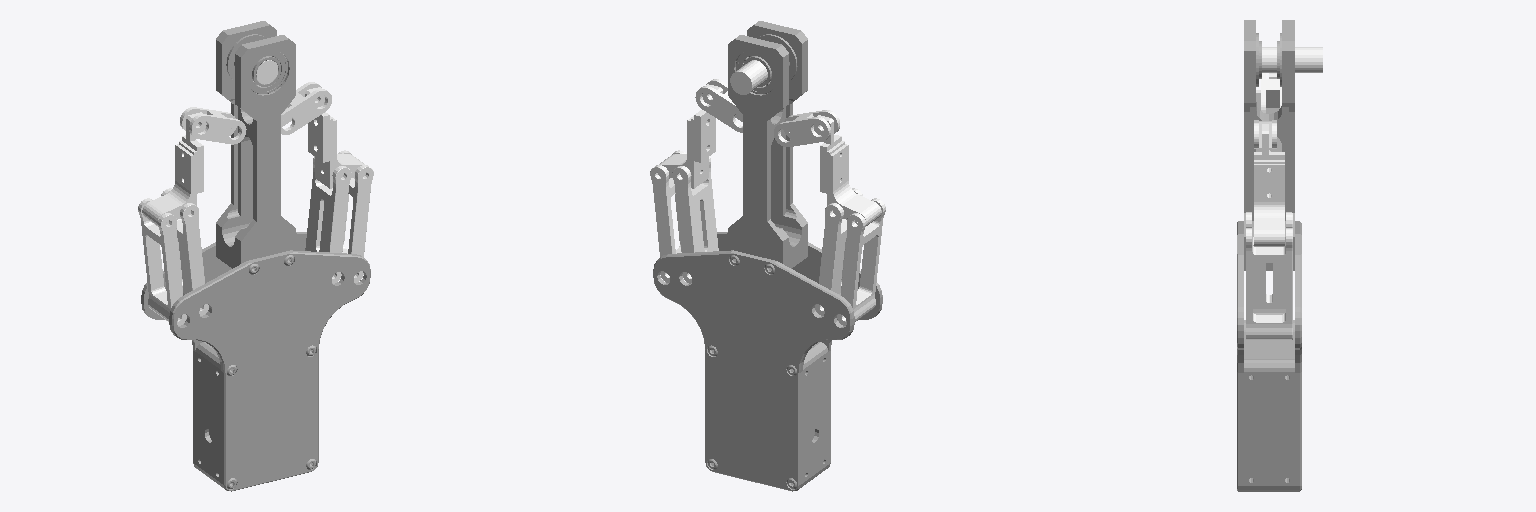
robot.urdf — rm65_scissors_description:
<?xml version="1.0" encoding="utf-8"?>
<!-- This URDF was automatically created by SolidWorks to URDF Exporter! Originally created by [author] ([email redacted]) 
     Commit Version: 1.6.0-4-g7f85cfe  Build Version: 1.6.7995.38578
     For more information, please see http://wiki.ros.org/sw_urdf_exporter -->
<robot
  name="rm65_scissors_description">
  <link
    name="base_link">
    <inertial>
      <origin
        xyz="0 0 0"
        rpy="0 0 0" />
      <mass
        value="0" />
      <inertia
        ixx="0"
        ixy="0"
        ixz="0"
        iyy="0"
        iyz="0"
        izz="0" />
    </inertial>
    <visual>
      <origin
        xyz="0 0 0"
        rpy="0 0 0" />
      <geometry>
        <mesh
          filename="package://rm65_scissors_description/meshes/base_link.STL" />
      </geometry>
      <material
        name="">
        <color
          rgba="0.752941176470588 0.752941176470588 0.752941176470588 1" />
      </material>
    </visual>
    <collision>
      <origin
        xyz="0 0 0"
        rpy="0 0 0" />
      <geometry>
        <mesh
          filename="package://rm65_scissors_description/meshes/base_link.STL" />
      </geometry>
    </collision>
  </link>
  <link
    name="link_l_b_1">
    <inertial>
      <origin
        xyz="0 0 0"
        rpy="0 0 0" />
      <mass
        value="0" />
      <inertia
        ixx="0"
        ixy="0"
        ixz="0"
        iyy="0"
        iyz="0"
        izz="0" />
    </inertial>
    <visual>
      <origin
        xyz="0 0 0"
        rpy="0 0 0" />
      <geometry>
        <mesh
          filename="package://rm65_scissors_description/meshes/link_l_b_1.STL" />
      </geometry>
      <material
        name="">
        <color
          rgba="1 1 1 1" />
      </material>
    </visual>
    <collision>
      <origin
        xyz="0 0 0"
        rpy="0 0 0" />
      <geometry>
        <mesh
          filename="package://rm65_scissors_description/meshes/link_l_b_1.STL" />
      </geometry>
    </collision>
  </link>
  <joint
    name="joint_l_1"
    type="revolute">
    <origin
      xyz="-0.04 0 0.0789999999999999"
      rpy="0 -0.108145629654395 0" />
    <parent
      link="base_link" />
    <child
      link="link_l_b_1" />
    <axis
      xyz="0 1 0" />
  </joint>
  <link
    name="link_l_m">
    <inertial>
      <origin
        xyz="0 0 0"
        rpy="0 0 0" />
      <mass
        value="0" />
      <inertia
        ixx="0"
        ixy="0"
        ixz="0"
        iyy="0"
        iyz="0"
        izz="0" />
    </inertial>
    <visual>
      <origin
        xyz="0 0 0"
        rpy="0 0 0" />
      <geometry>
        <mesh
          filename="package://rm65_scissors_description/meshes/link_l_m.STL" />
      </geometry>
      <material
        name="">
        <color
          rgba="1 1 1 1" />
      </material>
    </visual>
    <collision>
      <origin
        xyz="0 0 0"
        rpy="0 0 0" />
      <geometry>
        <mesh
          filename="package://rm65_scissors_description/meshes/link_l_m.STL" />
      </geometry>
    </collision>
  </link>
  <joint
    name="joint_l_3"
    type="revolute">
    <origin
      xyz="0 0 0.042"
      rpy="0 0.10815 0" />
    <parent
      link="link_l_b_1" />
    <child
      link="link_l_m" />
    <axis
      xyz="0 1 0" />
  </joint>
  <link
    name="link_l_t">
    <inertial>
      <origin
        xyz="0 0 0"
        rpy="0 0 0" />
      <mass
        value="0" />
      <inertia
        ixx="0"
        ixy="0"
        ixz="0"
        iyy="0"
        iyz="0"
        izz="0" />
    </inertial>
    <visual>
      <origin
        xyz="0 0 0"
        rpy="0 0 0" />
      <geometry>
        <mesh
          filename="package://rm65_scissors_description/meshes/link_l_t.STL" />
      </geometry>
      <material
        name="">
        <color
          rgba="1 1 1 1" />
      </material>
    </visual>
    <collision>
      <origin
        xyz="0 0 0"
        rpy="0 0 0" />
      <geometry>
        <mesh
          filename="package://rm65_scissors_description/meshes/link_l_t.STL" />
      </geometry>
    </collision>
  </link>
  <joint
    name="joint_l_4"
    type="revolute">
    <origin
      xyz="0.0185 0.0015 0.035"
      rpy="0 0.36662 0" />
    <parent
      link="link_l_m" />
    <child
      link="link_l_t" />
    <axis
      xyz="0 -1 0" />
  </joint>
  <link
    name="link_l_b_2">
    <inertial>
      <origin
        xyz="0 0 0"
        rpy="0 0 0" />
      <mass
        value="0" />
      <inertia
        ixx="0"
        ixy="0"
        ixz="0"
        iyy="0"
        iyz="0"
        izz="0" />
    </inertial>
    <visual>
      <origin
        xyz="0 0 0"
        rpy="0 0 0" />
      <geometry>
        <mesh
          filename="package://rm65_scissors_description/meshes/link_l_b_2.STL" />
      </geometry>
      <material
        name="">
        <color
          rgba="1 1 1 1" />
      </material>
    </visual>
    <collision>
      <origin
        xyz="0 0 0"
        rpy="0 0 0" />
      <geometry>
        <mesh
          filename="package://rm65_scissors_description/meshes/link_l_b_2.STL" />
      </geometry>
    </collision>
  </link>
  <joint
    name="joint_l_2"
    type="revolute">
    <origin
      xyz="-0.03 0 0.081"
      rpy="0 -0.10815 0" />
    <parent
      link="base_link" />
    <child
      link="link_l_b_2" />
    <axis
      xyz="0 1 0" />
  </joint>
  <link
    name="scissors_center">
    <inertial>
      <origin
        xyz="0 0 0"
        rpy="0 0 0" />
      <mass
        value="0" />
      <inertia
        ixx="0"
        ixy="0"
        ixz="0"
        iyy="0"
        iyz="0"
        izz="0" />
    </inertial>
    <visual>
      <origin
        xyz="0 0 0"
        rpy="0 0 0" />
      <geometry>
        <mesh
          filename="package://rm65_scissors_description/meshes/scissors_center.STL" />
      </geometry>
      <material
        name="">
        <color
          rgba="1 1 1 1" />
      </material>
    </visual>
    <collision>
      <origin
        xyz="0 0 0"
        rpy="0 0 0" />
      <geometry>
        <mesh
          filename="package://rm65_scissors_description/meshes/scissors_center.STL" />
      </geometry>
    </collision>
  </link>
  <joint
    name="scissors_fixed"
    type="fixed">
    <origin
      xyz="0 0.0015 0.176"
      rpy="0 0 0" />
    <parent
      link="base_link" />
    <child
      link="scissors_center" />
    <axis
      xyz="0 0 0" />
  </joint>
  <link
    name="link_r_b_1">
    <inertial>
      <origin
        xyz="0 0 0"
        rpy="0 0 0" />
      <mass
        value="0" />
      <inertia
        ixx="0"
        ixy="0"
        ixz="0"
        iyy="0"
        iyz="0"
        izz="0" />
    </inertial>
    <visual>
      <origin
        xyz="0 0 0"
        rpy="0 0 0" />
      <geometry>
        <mesh
          filename="package://rm65_scissors_description/meshes/link_r_b_1.STL" />
      </geometry>
      <material
        name="">
        <color
          rgba="1 1 1 1" />
      </material>
    </visual>
    <collision>
      <origin
        xyz="0 0 0"
        rpy="0 0 0" />
      <geometry>
        <mesh
          filename="package://rm65_scissors_description/meshes/link_r_b_1.STL" />
      </geometry>
    </collision>
  </link>
  <joint
    name="joint_r_1"
    type="revolute">
    <origin
      xyz="0.04 0 0.079"
      rpy="0 0.10815 0" />
    <parent
      link="base_link" />
    <child
      link="link_r_b_1" />
    <axis
      xyz="0 -1 0" />
  </joint>
  <link
    name="link_r_m">
    <inertial>
      <origin
        xyz="0 0 0"
        rpy="0 0 0" />
      <mass
        value="0" />
      <inertia
        ixx="0"
        ixy="0"
        ixz="0"
        iyy="0"
        iyz="0"
        izz="0" />
    </inertial>
    <visual>
      <origin
        xyz="0 0 0"
        rpy="0 0 0" />
      <geometry>
        <mesh
          filename="package://rm65_scissors_description/meshes/link_r_m.STL" />
      </geometry>
      <material
        name="">
        <color
          rgba="1 1 1 1" />
      </material>
    </visual>
    <collision>
      <origin
        xyz="0 0 0"
        rpy="0 0 0" />
      <geometry>
        <mesh
          filename="package://rm65_scissors_description/meshes/link_r_m.STL" />
      </geometry>
    </collision>
  </link>
  <joint
    name="joint_r_3"
    type="revolute">
    <origin
      xyz="0 0 0.042"
      rpy="0 -0.10815 0" />
    <parent
      link="link_r_b_1" />
    <child
      link="link_r_m" />
    <axis
      xyz="0 -1 0" />
  </joint>
  <link
    name="link_r_t">
    <inertial>
      <origin
        xyz="0 0 0"
        rpy="0 0 0" />
      <mass
        value="0" />
      <inertia
        ixx="0"
        ixy="0"
        ixz="0"
        iyy="0"
        iyz="0"
        izz="0" />
    </inertial>
    <visual>
      <origin
        xyz="0 0 0"
        rpy="0 0 0" />
      <geometry>
        <mesh
          filename="package://rm65_scissors_description/meshes/link_r_t.STL" />
      </geometry>
      <material
        name="">
        <color
          rgba="1 1 1 1" />
      </material>
    </visual>
    <collision>
      <origin
        xyz="0 0 0"
        rpy="0 0 0" />
      <geometry>
        <mesh
          filename="package://rm65_scissors_description/meshes/link_r_t.STL" />
      </geometry>
    </collision>
  </link>
  <joint
    name="joint_r_4"
    type="revolute">
    <origin
      xyz="-0.0185 0 0.035"
      rpy="0 -0.36662 0" />
    <parent
      link="link_r_m" />
    <child
      link="link_r_t" />
    <axis
      xyz="0 1 0" />
  </joint>
  <link
    name="link_r_b_2">
    <inertial>
      <origin
        xyz="0 0 0"
        rpy="0 0 0" />
      <mass
        value="0" />
      <inertia
        ixx="0"
        ixy="0"
        ixz="0"
        iyy="0"
        iyz="0"
        izz="0" />
    </inertial>
    <visual>
      <origin
        xyz="0 0 0"
        rpy="0 0 0" />
      <geometry>
        <mesh
          filename="package://rm65_scissors_description/meshes/link_r_b_2.STL" />
      </geometry>
      <material
        name="">
        <color
          rgba="1 1 1 1" />
      </material>
    </visual>
    <collision>
      <origin
        xyz="0 0 0"
        rpy="0 0 0" />
      <geometry>
        <mesh
          filename="package://rm65_scissors_description/meshes/link_r_b_2.STL" />
      </geometry>
    </collision>
  </link>
  <joint
    name="joint_r_2"
    type="revolute">
    <origin
      xyz="0.03 0 0.081"
      rpy="0 0.10815 0" />
    <parent
      link="base_link" />
    <child
      link="link_r_b_2" />
    <axis
      xyz="0 -1 0" />
  </joint>

  <link name="base"/>
  <joint name="base_joint" type="fixed">
    <origin xyz="0 0 0" rpy="0 0 0" />
    <child link="base_link"/>
    <parent link="base"/>
  </joint>
</robot>

--- What the picture shows (computed from the rendered views, not written in the file) ---
3 views of the same robot in one strip: view 1: azimuth 30°, elevation 25°; view 2: azimuth 150°, elevation 25°; view 3: azimuth 270°, elevation 25° (orthographic).
Model rm65_scissors_description with 11 links and 10 joints (8 revolute, 2 fixed), rooted at base, posed all joints at 0.
Visible links, largest first — view 1: base_link, link_l_b_1, link_r_b_2, link_l_m, link_r_m, link_l_b_2, link_r_b_1, link_l_t, link_r_t; view 2: base_link, link_l_b_1, link_r_b_2, link_l_m, link_r_m, link_l_b_2, link_r_b_1, link_l_t, link_r_t, scissors_center; view 3: base_link, link_r_m, link_r_b_1, link_r_b_2, scissors_center, link_l_t.
Boxes of the visible links, x1,y1,x2,y2 form: base_link: (141, 21, 370, 491); link_l_b_1: (138, 198, 186, 325); link_r_b_2: (305, 156, 351, 283); link_l_m: (142, 112, 206, 225); link_r_m: (305, 87, 365, 188); link_l_b_2: (161, 188, 208, 315); link_r_b_1: (338, 150, 373, 282); link_l_t: (180, 107, 246, 144); link_r_t: (281, 82, 331, 134); base_link: (653, 21, 882, 491); link_l_b_1: (837, 198, 885, 325); link_r_b_2: (672, 156, 718, 283); link_l_m: (814, 115, 881, 225); link_r_m: (658, 84, 722, 188); link_l_b_2: (815, 188, 862, 315); link_r_b_1: (650, 150, 685, 282); link_l_t: (774, 110, 839, 146); link_r_t: (695, 79, 742, 132); scissors_center: (730, 60, 767, 94); base_link: (1237, 20, 1301, 491); link_r_m: (1254, 124, 1284, 245); link_r_b_1: (1246, 228, 1292, 339); link_r_b_2: (1246, 212, 1292, 314); scissors_center: (1262, 47, 1322, 72); link_l_t: (1261, 73, 1281, 112).
Size in the robot's own frame: 0.0965 by 0.0337 by 0.1885 metres.
10 mesh visuals loaded from 10 distinct referenced files (10 binary STL).